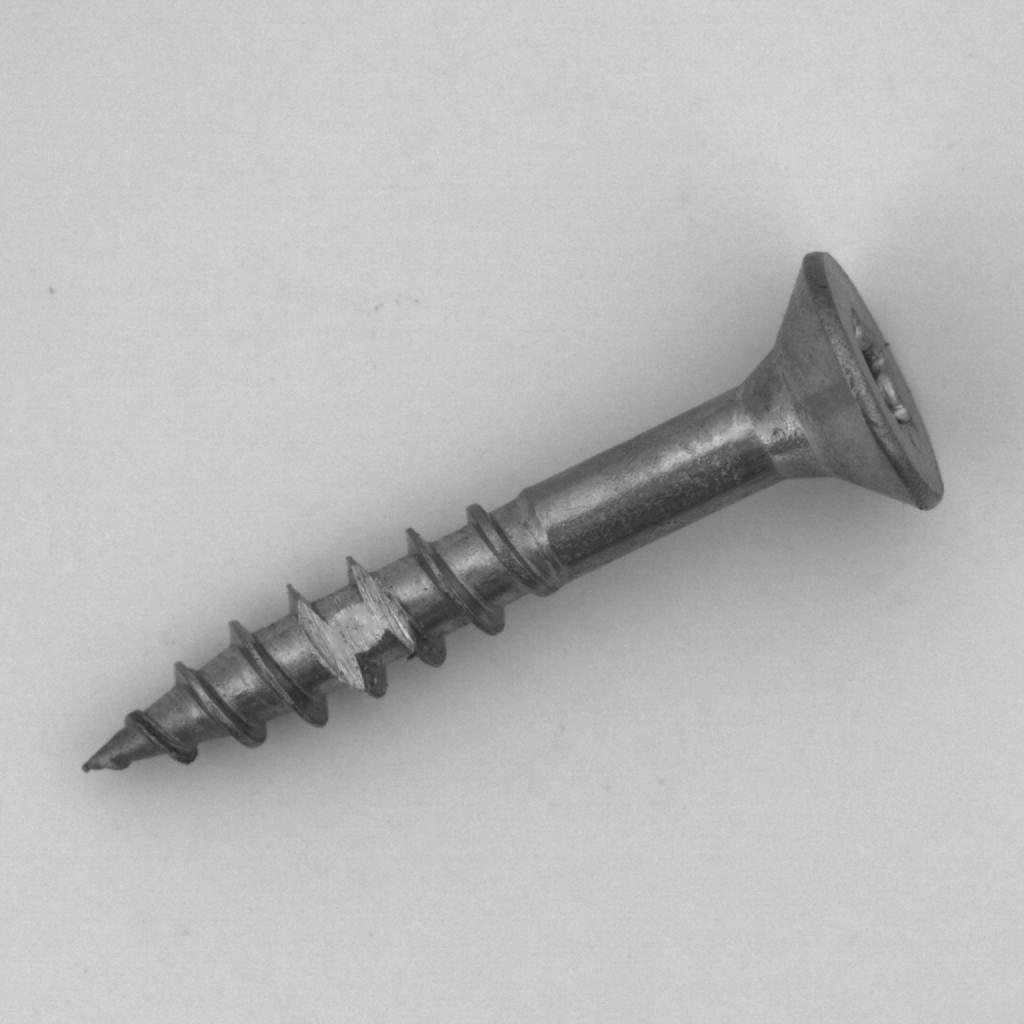bad: (337, 43, 690, 975)
